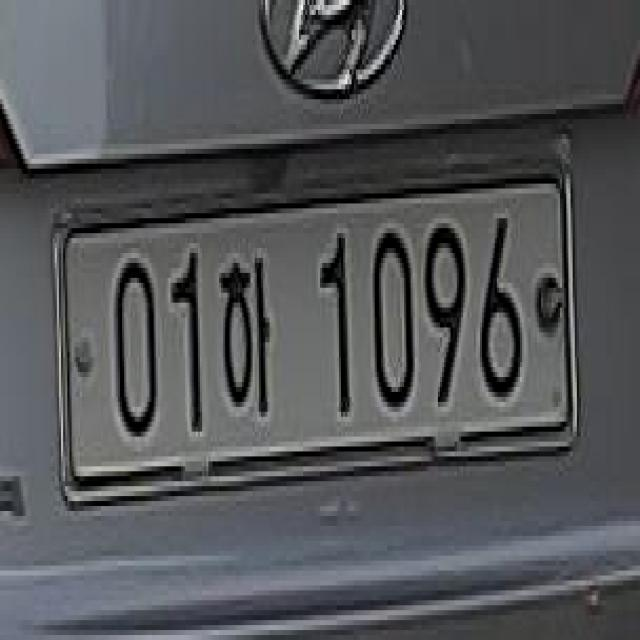illegal_plate: (52, 164, 581, 498)
